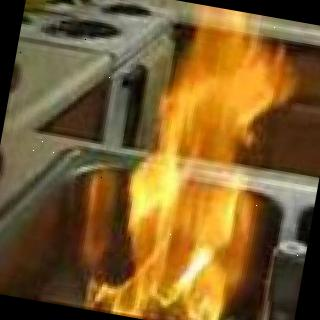fire: (101, 0, 302, 320)
